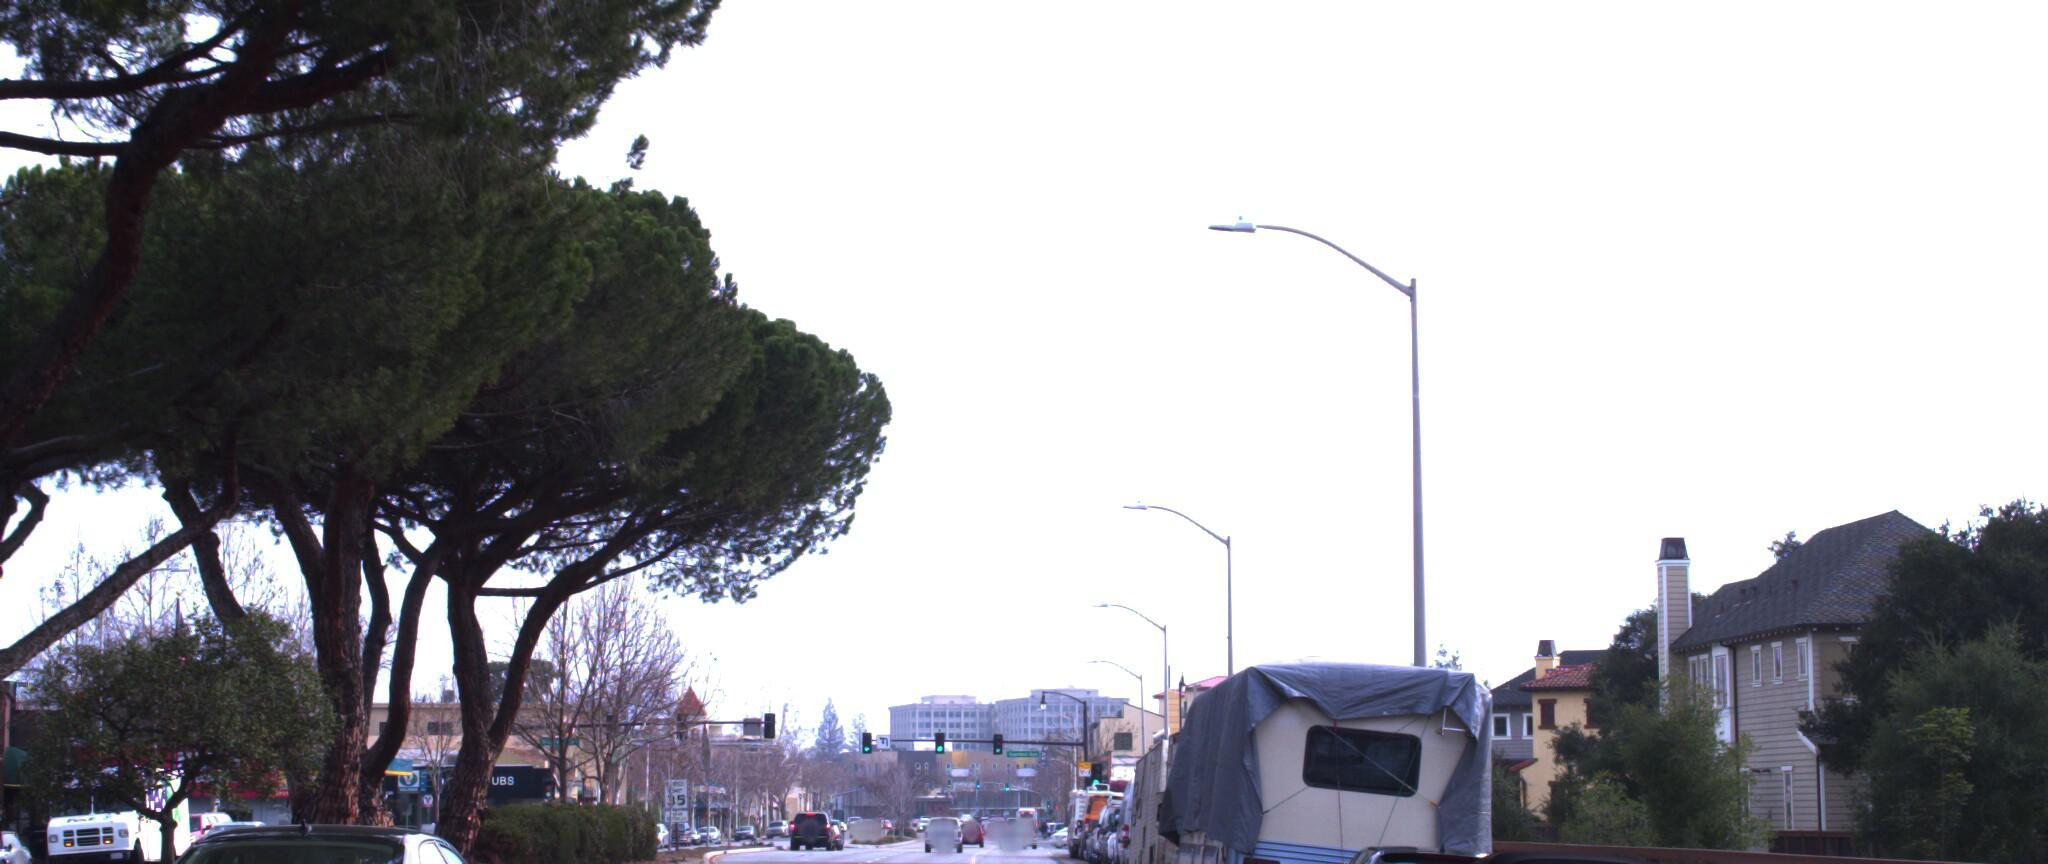car: (76, 799, 566, 864), (1374, 826, 1762, 864), (1524, 837, 2048, 864), (1298, 822, 1553, 864), (1856, 838, 2048, 864)
other_vehicle: (1160, 642, 1493, 864), (1127, 715, 1326, 864)
